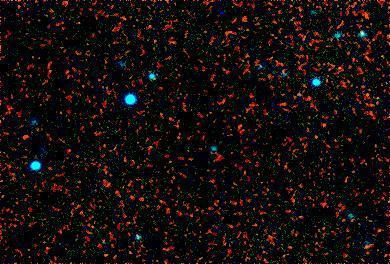star: (9, 122, 39, 152)
